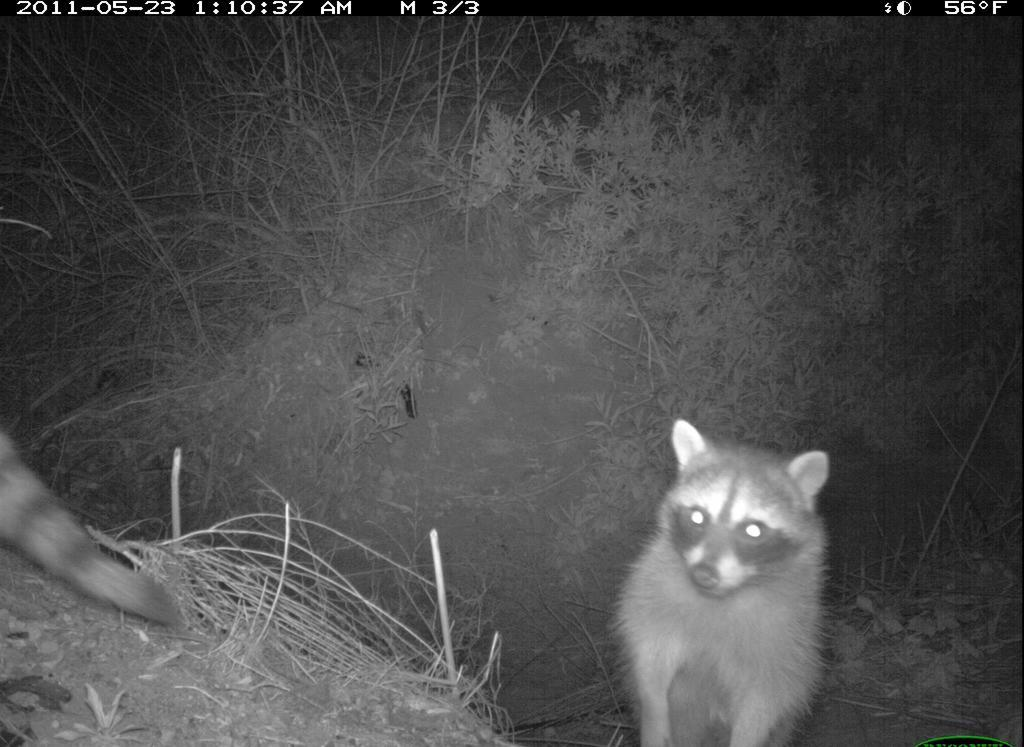raccoon: (598, 410, 853, 743), (2, 401, 190, 643)
